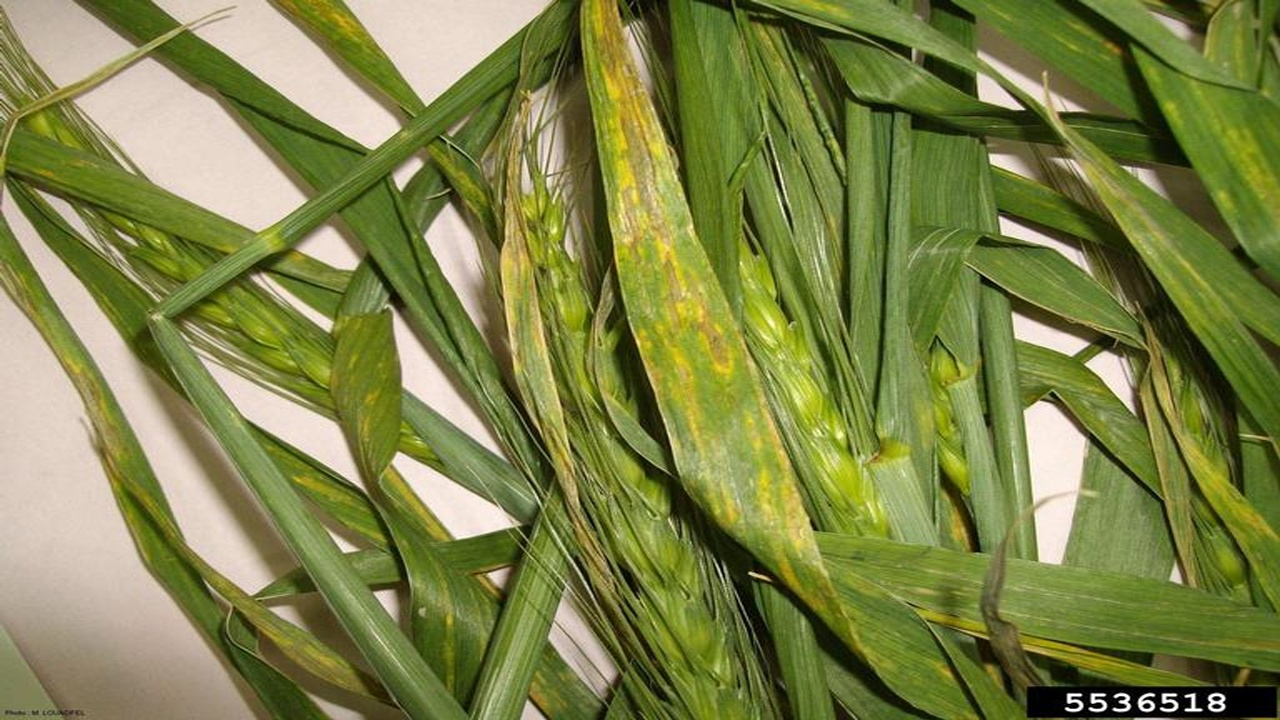stripe_rust: (2, 213, 383, 720), (580, 2, 854, 644), (331, 315, 491, 706)
